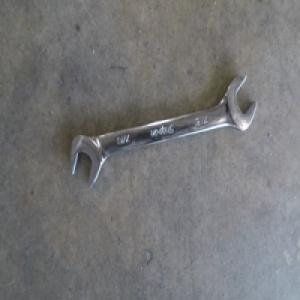Wrench: (68, 75, 259, 195)
